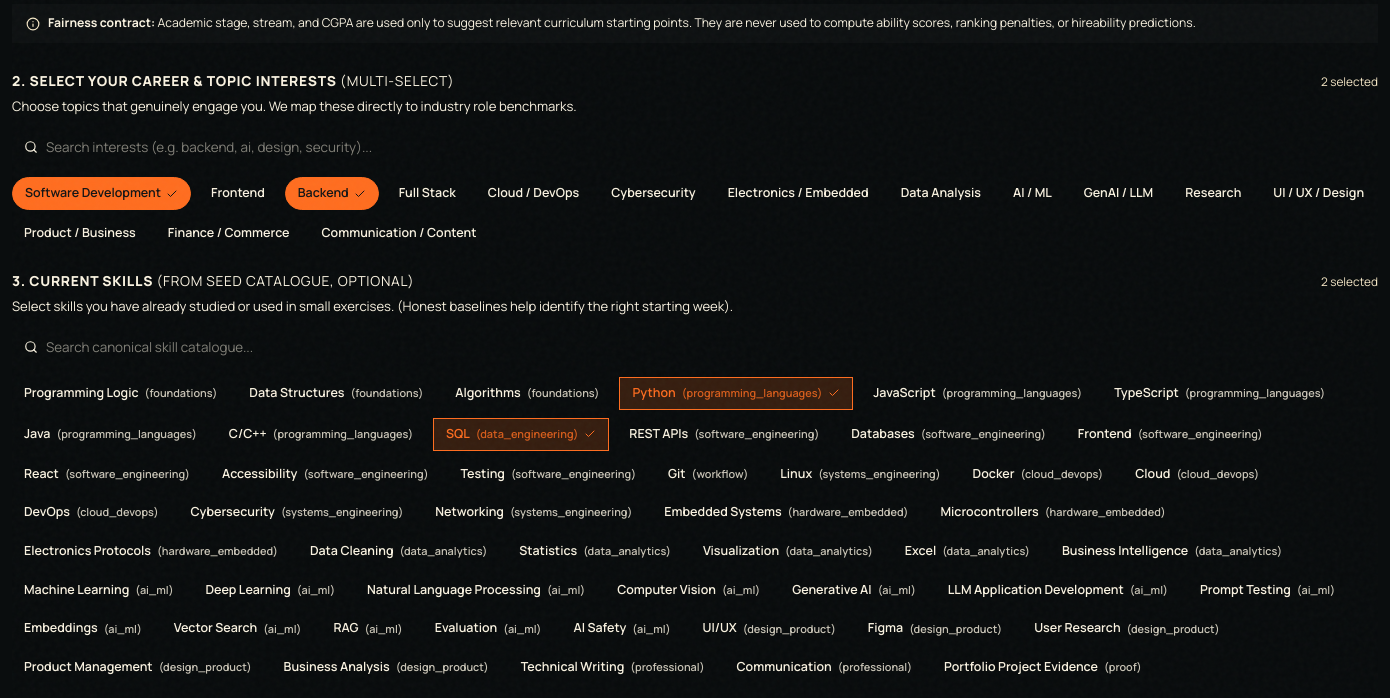
Prompt 4 — Degree, Specialization & Unified Skill Catalogue › D. UI Behavior in LearnerContextIntake › renders skills from SKILLS_CATALOGUE with search filtering
(page scrolled)
// Search for 'Figma'
In the field with placeholder "Search canonical skill catalogue...": (695, 347) [12, 329, 1378, 365], type "Figma"
(page scrolled)
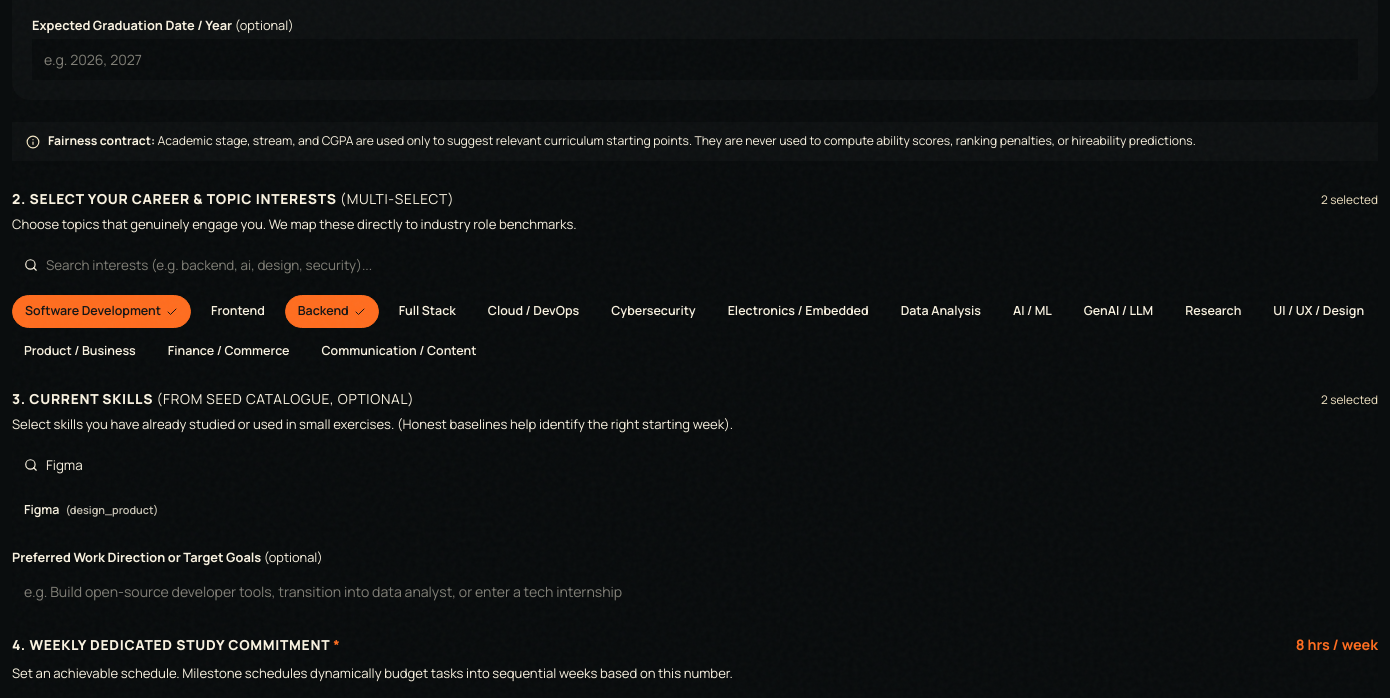
Expected: the button "Figma (design_product)" is shown, [12, 495, 170, 526]
// Search for 'RAG'
Replace the text in the field with placeholder "Search canonical skill catalogue..." with "RAG": (695, 465) [12, 447, 1378, 483]
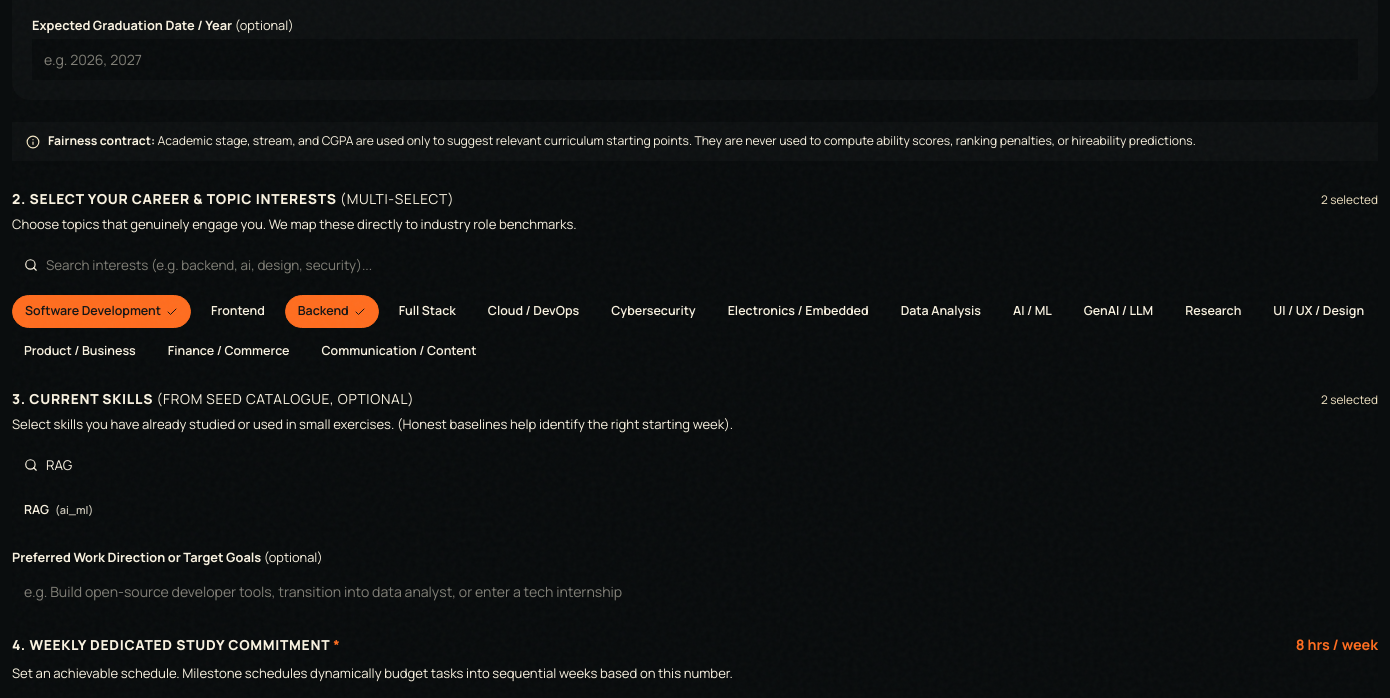
Now the button "RAG (ai_ml)" is shown, box [12, 495, 105, 526]
